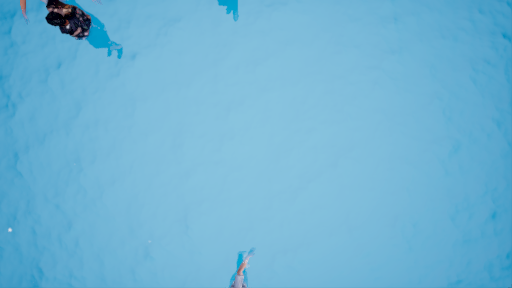person: (45, 1, 124, 66)
